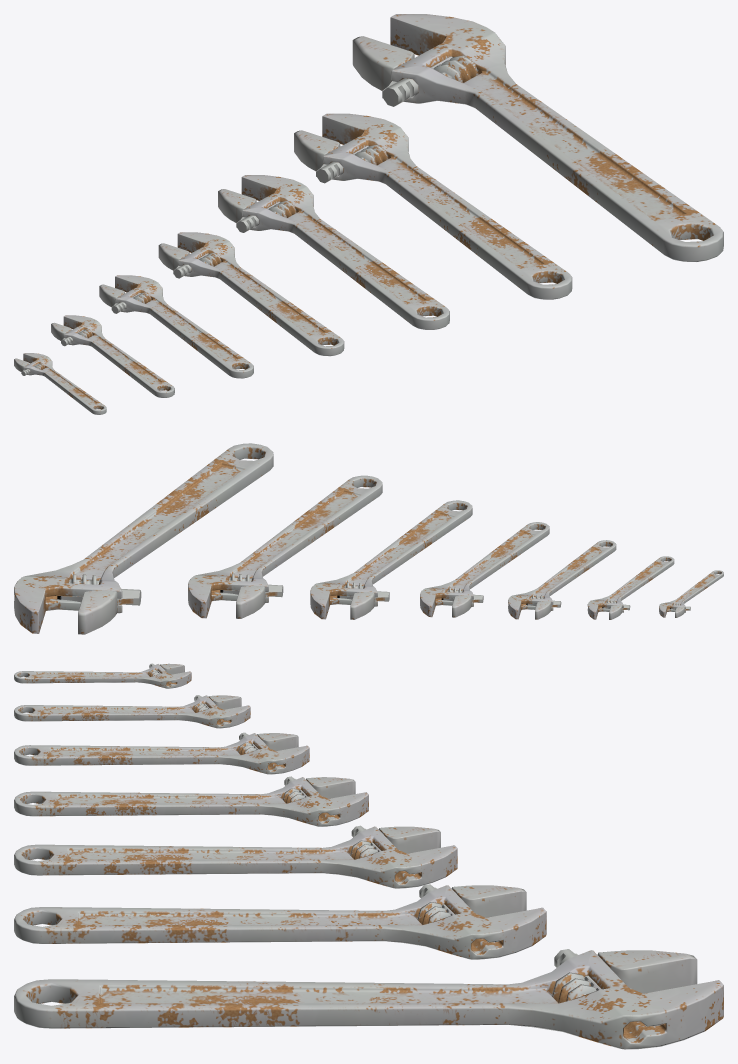
Rendered from SM_Cles_A_Molette.glb.
3 renders of one model, top to bottom at view 1: azimuth 30°, elevation 25°; view 2: azimuth 150°, elevation 25°; view 3: azimuth 270°, elevation 25°, orthographic. The views are drawn at different scales.
Parts seen in each view (by area): view 1: Cle_A_Molette_24po, Cle_A_Molette_18po, Cle_A_Molette_15po, Cle_A_Molette_12po, Cle_A_Molette_10po, Cle_A_Molette_24po_Machoire, Cle_A_Molette_08po, Cle_A_Molette_18po_Machoire, Cle_A_Molette_06po, Cle_A_Molette_15po_Machoire, Cle_A_Molette_24po_Molette, Cle_A_Molette_12po_Machoire; view 2: Cle_A_Molette_24po, Cle_A_Molette_18po, Cle_A_Molette_15po, Cle_A_Molette_12po, Cle_A_Molette_10po, Cle_A_Molette_24po_Machoire, Cle_A_Molette_08po, Cle_A_Molette_18po_Machoire, Cle_A_Molette_06po, Cle_A_Molette_15po_Machoire, Cle_A_Molette_12po_Machoire, Cle_A_Molette_10po_Machoire; view 3: Cle_A_Molette_24po, Cle_A_Molette_18po, Cle_A_Molette_15po, Cle_A_Molette_12po, Cle_A_Molette_10po, Cle_A_Molette_08po, Cle_A_Molette_24po_Machoire, Cle_A_Molette_06po, Cle_A_Molette_18po_Machoire, Cle_A_Molette_15po_Machoire, Cle_A_Molette_12po_Machoire, Cle_A_Molette_24po_Molette (+1 smaller).
Part boxes in pixels (x1,y1,x2,y2): Cle_A_Molette_24po: [390, 14, 723, 261]; Cle_A_Molette_18po: [322, 113, 572, 299]; Cle_A_Molette_15po: [241, 175, 449, 329]; Cle_A_Molette_12po: [177, 232, 344, 356]; Cle_A_Molette_10po: [115, 275, 253, 378]; Cle_A_Molette_24po_Machoire: [352, 36, 452, 106]; Cle_A_Molette_08po: [63, 315, 174, 397]; Cle_A_Molette_18po_Machoire: [294, 130, 368, 183]; Cle_A_Molette_06po: [23, 353, 106, 414]; Cle_A_Molette_15po_Machoire: [218, 189, 279, 232]; Cle_A_Molette_24po_Molette: [433, 55, 478, 82]; Cle_A_Molette_12po_Machoire: [158, 243, 208, 278]; Cle_A_Molette_24po: [14, 443, 273, 633]; Cle_A_Molette_18po: [188, 475, 382, 618]; Cle_A_Molette_15po: [310, 500, 472, 619]; Cle_A_Molette_12po: [420, 522, 549, 617]; Cle_A_Molette_10po: [508, 540, 616, 619]; Cle_A_Molette_24po_Machoire: [57, 588, 141, 634]; Cle_A_Molette_08po: [587, 556, 674, 619]; Cle_A_Molette_18po_Machoire: [220, 584, 283, 618]; Cle_A_Molette_06po: [659, 570, 723, 617]; Cle_A_Molette_15po_Machoire: [337, 591, 389, 619]; Cle_A_Molette_12po_Machoire: [441, 594, 483, 617]; Cle_A_Molette_10po_Machoire: [526, 600, 561, 619]; Cle_A_Molette_24po: [14, 950, 723, 1049]; Cle_A_Molette_18po: [14, 885, 546, 959]; Cle_A_Molette_15po: [14, 826, 457, 888]; Cle_A_Molette_12po: [14, 777, 368, 826]; Cle_A_Molette_10po: [14, 733, 309, 774]; Cle_A_Molette_08po: [14, 695, 250, 728]; Cle_A_Molette_24po_Machoire: [554, 949, 697, 993]; Cle_A_Molette_06po: [14, 664, 191, 688]; Cle_A_Molette_18po_Machoire: [419, 884, 526, 917]; Cle_A_Molette_15po_Machoire: [351, 825, 440, 853]; Cle_A_Molette_12po_Machoire: [284, 776, 355, 798]; Cle_A_Molette_24po_Molette: [551, 972, 596, 1003].
Bounding box in the file's own units: 0.7756 × 0.0359 × 0.6097.
1 material, 1 textured.
